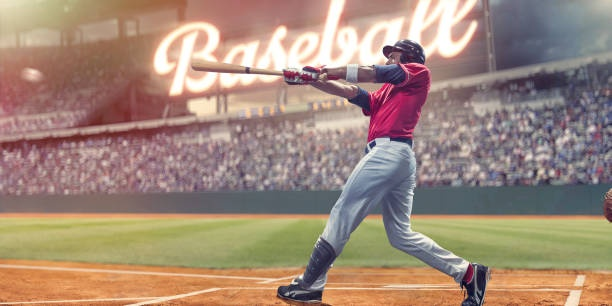bita: (188, 55, 326, 83)
